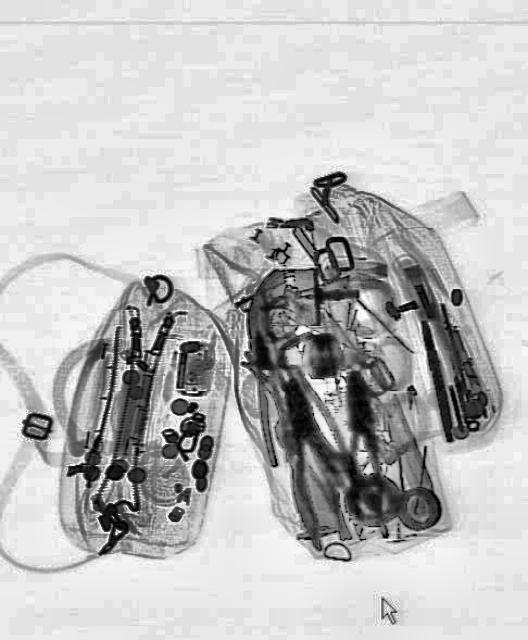Pliers: (260, 408, 353, 556), (335, 368, 387, 542), (242, 327, 302, 469)
